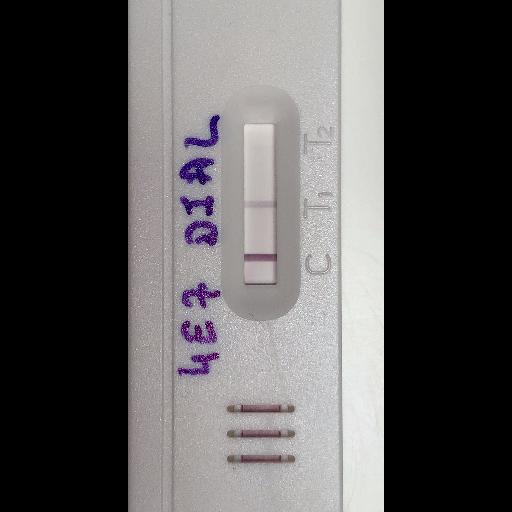Pos: (127, 0, 339, 509)
